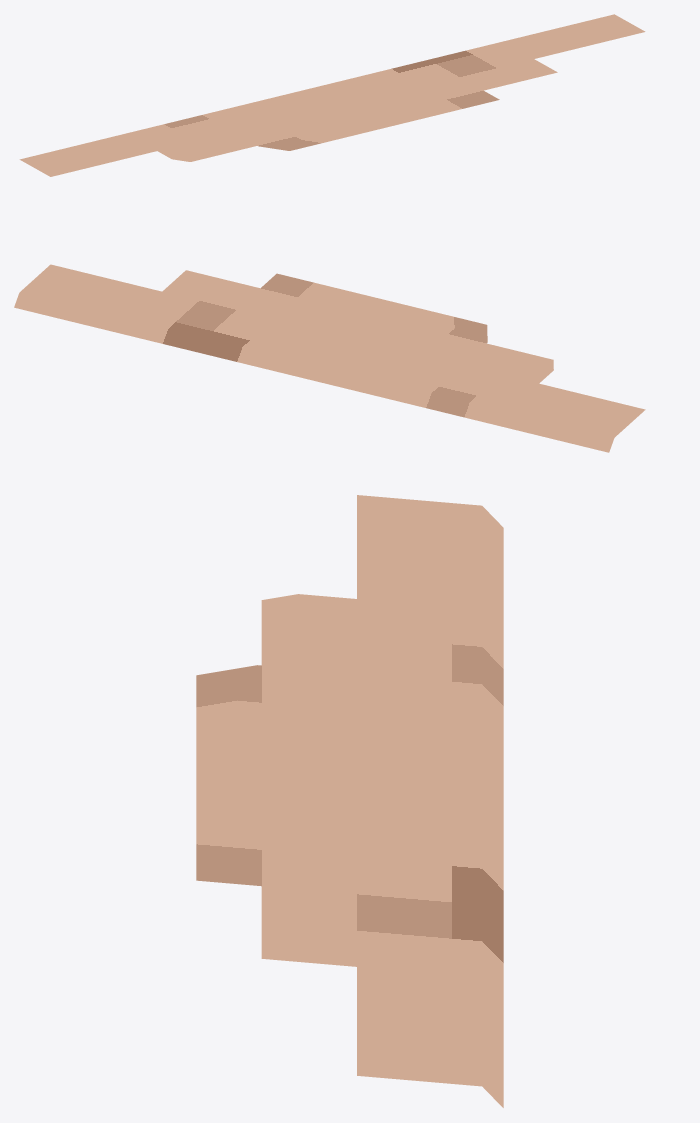
The picture shows the model from 3 angles, top to bottom: view 1: azimuth 30°, elevation 25°; view 2: azimuth 150°, elevation 25°; view 3: azimuth 270°, elevation 25°; orthographic projection. The views are drawn at different scales.
Size of the model in its own units: 1 by 0.0373 by 0.2236.
1 material, 1 textured.
